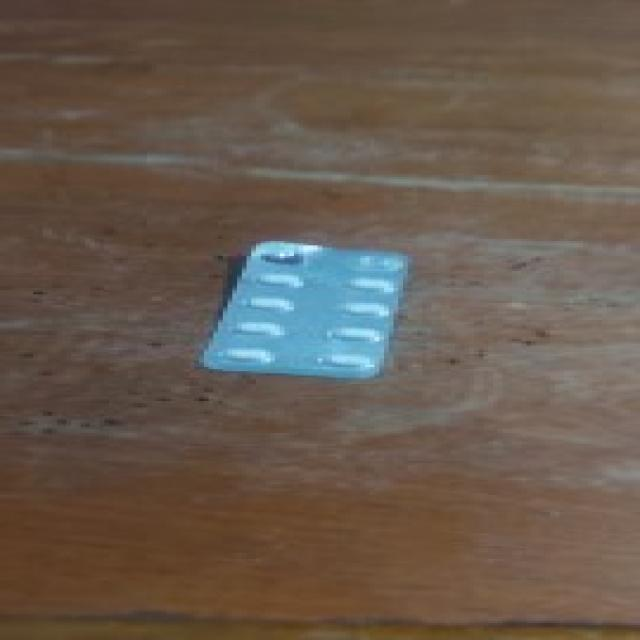Cacat: (199, 244, 417, 378)
Kemasan: (250, 250, 320, 268)
